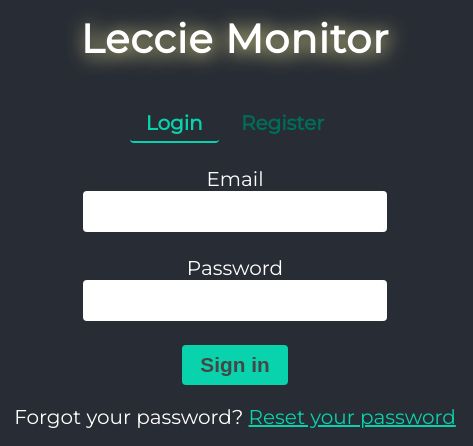
App Flow › It should allow a user to register › Should warn about filling in empty fields
The width and height of the screenshot is (473, 446).
Click the link to "/auth/register" at (283, 123), box [241,111,324,135]
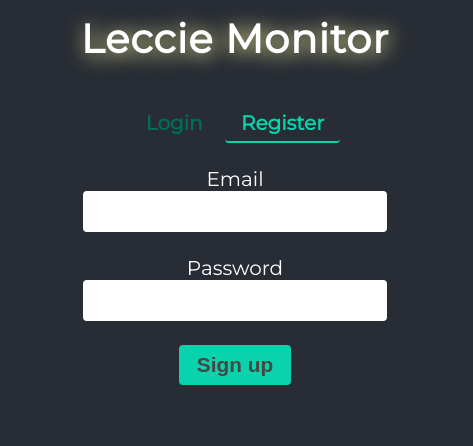
Click the submit button at (235, 366), box [179,345,291,386]
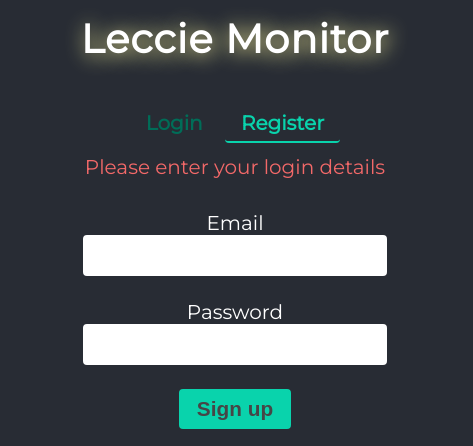
Now the text with test id "login-errors" reads "Please enter your login details", box [81,155,390,179]
